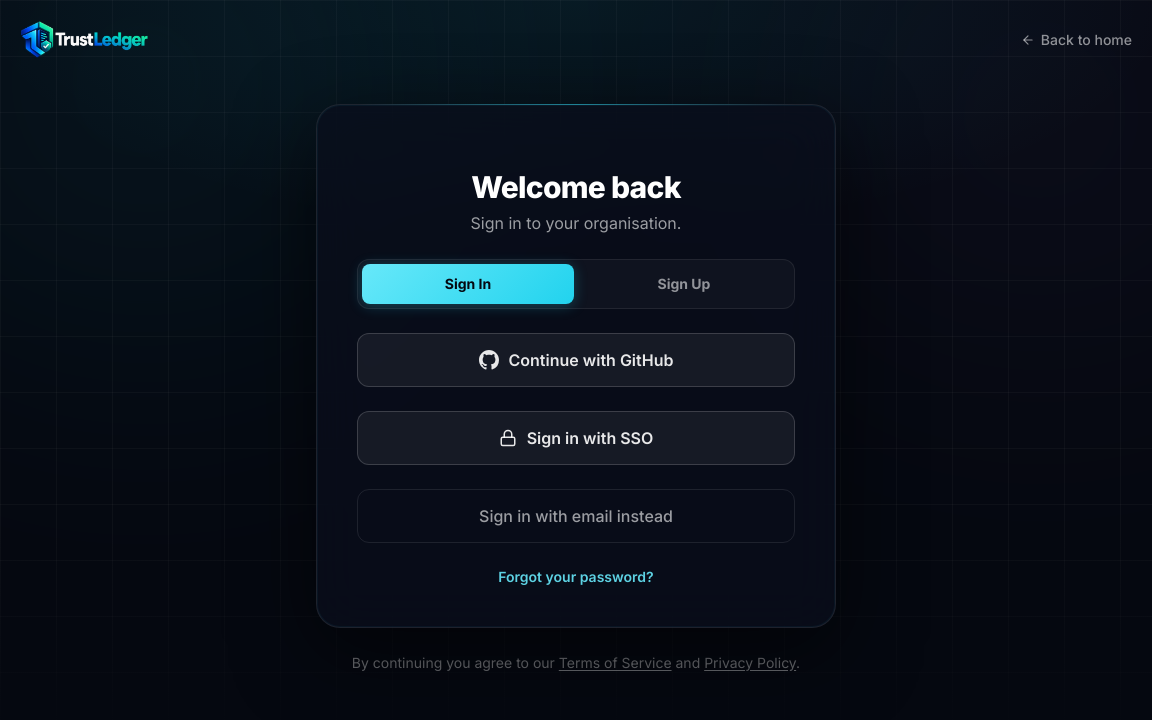
it: sign in / sign up forms › Forgot password is a link from Sign In (not a third tab), with a way back
The image size is (1152, 720).
Check: the tabs read "Sign In", "Sign Up", in this order, box [362, 264, 574, 304]; [578, 264, 790, 304]
What coordinates should you click on to do the following:
click the button "Forgot your password?"
I would click on:
 (576, 577)
Its box is [498, 567, 654, 587].
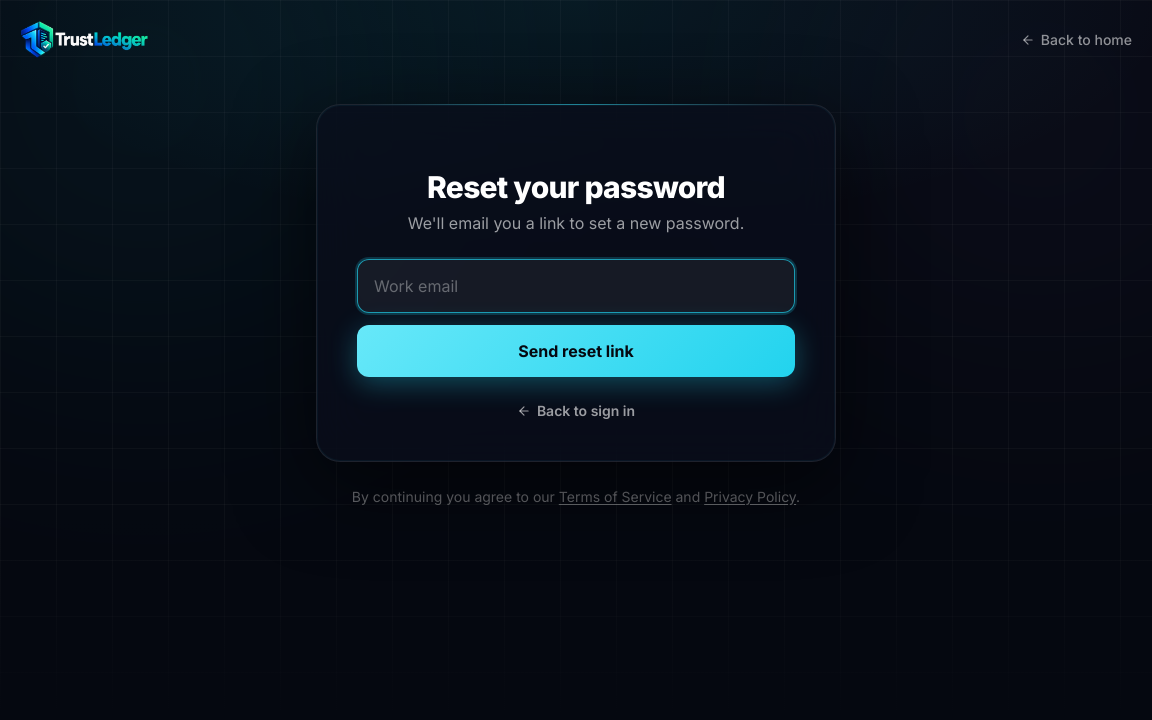
Check: the heading "Reset your password" is shown, box [427, 169, 725, 205]
Check: the button "Send reset link" is shown, box [357, 325, 795, 377]
Check: the tab is gone
What coordinates should you click on to do the following:
click the button "Back to sign in"
I would click on:
 (576, 411)
Its box is [517, 401, 635, 421].
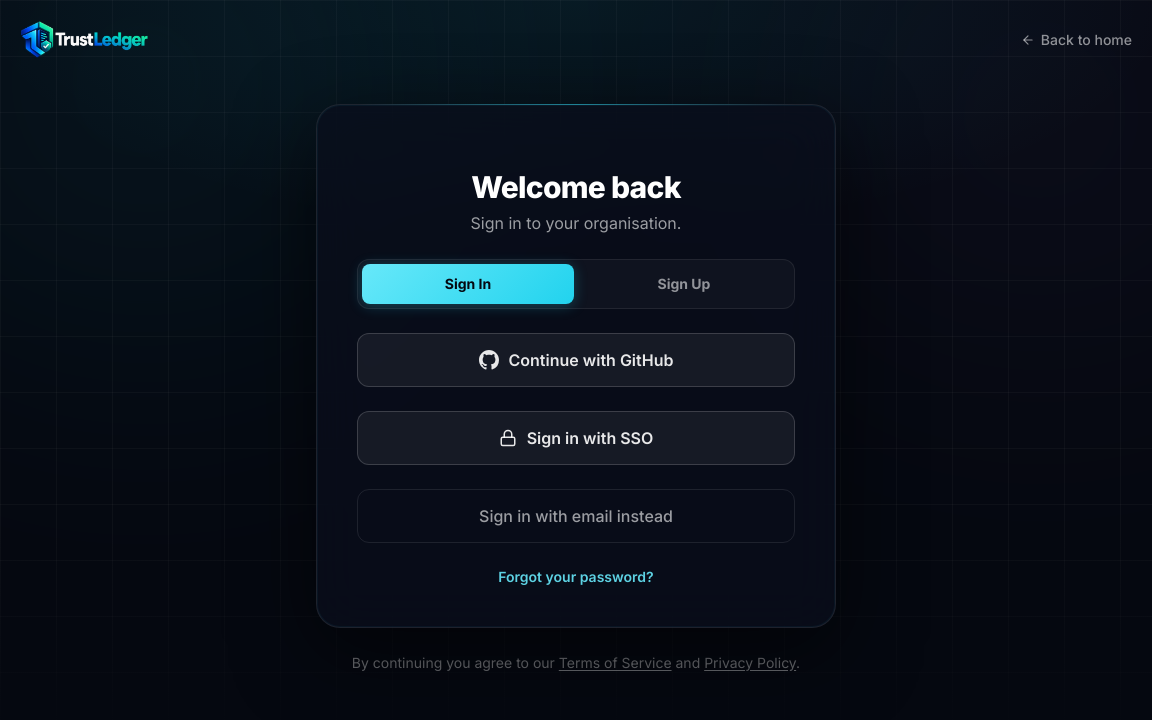
Check: the heading "Welcome back" is shown, box [471, 169, 681, 205]
